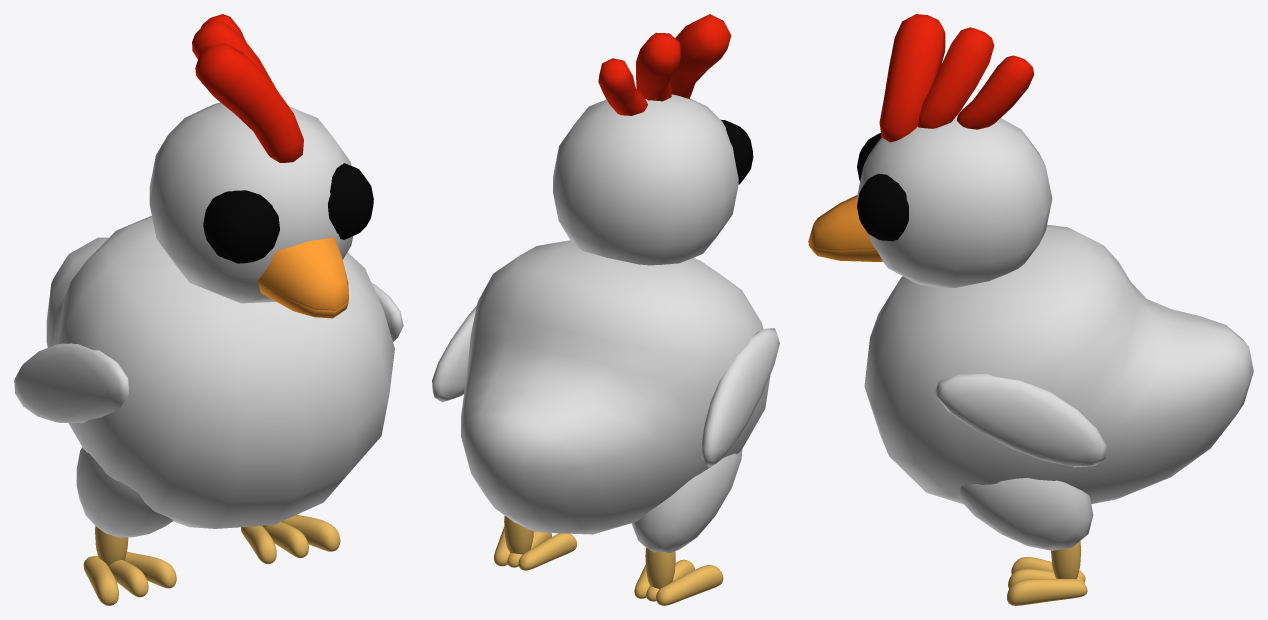
File: clay_chicken_maruf.dae
The picture shows the model from 3 angles, left to right: view 1: azimuth 30°, elevation 25°; view 2: azimuth 150°, elevation 25°; view 3: azimuth 270°, elevation 25°; orthographic projection. The views are drawn at different scales.
Visible parts, largest first — view 1: Cube.020; view 2: Cube.020; view 3: Cube.020.
Boxes of the visible parts, left/top/right/bottom form: Cube.020: left=14, top=14, right=403, bottom=605; Cube.020: left=432, top=14, right=779, bottom=605; Cube.020: left=808, top=14, right=1253, bottom=605.
Size of the model in its own units: 1.9 by 2.58 by 3.31.
